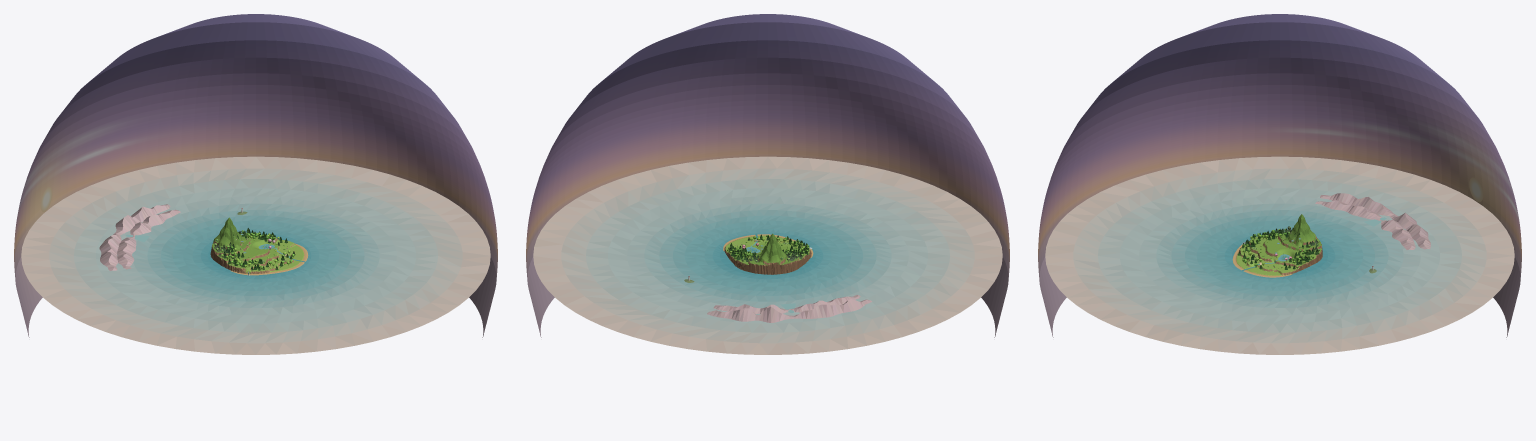
Rendered from kit.glb.
3 views of the same model, side by side, from view 1: azimuth 30°, elevation 25°; view 2: azimuth 150°, elevation 25°; view 3: azimuth 270°, elevation 25° (orthographic).
Parts seen in each view (by area): view 1: island__sea.x, island__sky.x, island__ground_albedo.x, island__far.x, island__scenery.x; view 2: island__sea.x, island__sky.x, island__far.x, island__ground_albedo.x, island__scenery.x; view 3: island__sea.x, island__sky.x, island__ground_albedo.x, island__far.x, island__scenery.x, island__ground_early_albedo.x.
Part boxes in pixels (bbox=[...]): island__sea.x: bbox=[21, 156, 490, 354]; island__sky.x: bbox=[14, 14, 497, 337]; island__ground_albedo.x: bbox=[210, 217, 308, 275]; island__far.x: bbox=[99, 204, 247, 270]; island__scenery.x: bbox=[214, 228, 295, 270]; island__sea.x: bbox=[533, 156, 1002, 354]; island__sky.x: bbox=[526, 14, 1009, 337]; island__far.x: bbox=[684, 276, 871, 322]; island__ground_albedo.x: bbox=[723, 233, 813, 274]; island__scenery.x: bbox=[727, 234, 809, 262]; island__sea.x: bbox=[1045, 156, 1514, 354]; island__sky.x: bbox=[1038, 14, 1521, 337]; island__ground_albedo.x: bbox=[1232, 214, 1322, 277]; island__far.x: bbox=[1315, 193, 1430, 273]; island__scenery.x: bbox=[1238, 226, 1319, 270]; island__ground_early_albedo.x: bbox=[1249, 224, 1303, 271].
Size of the model in its own units: 280 by 188 by 280.
